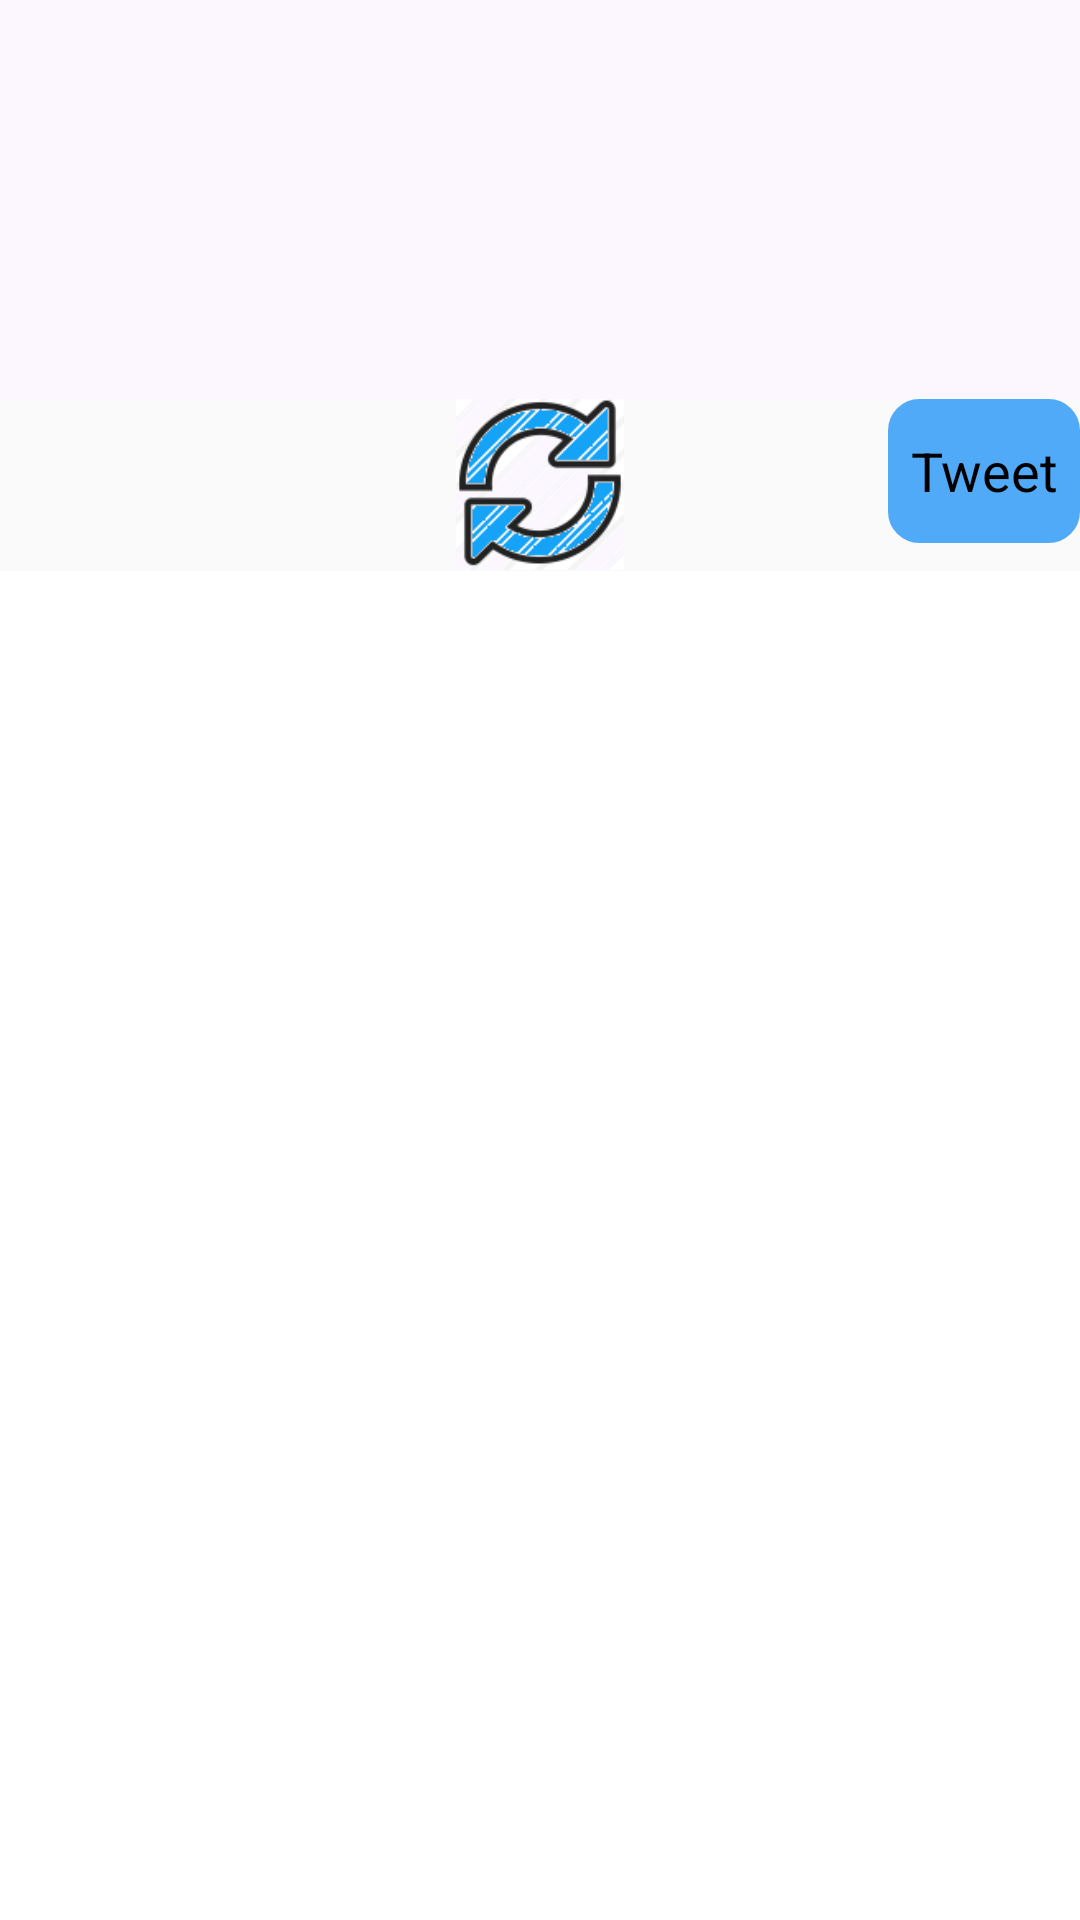

Screen size 1080x1920. Icon name, then its center in pixels as [x,y]:
refresh page: [540,483]
